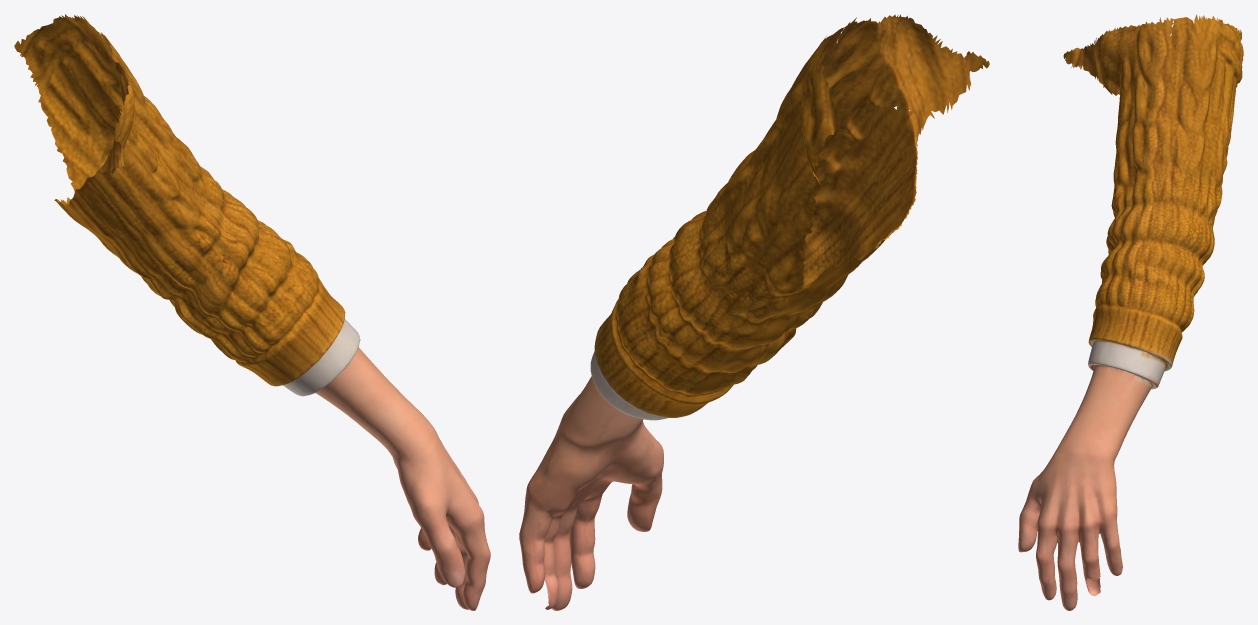
Rendered from AbuelaBrazoDer.obj.
3 renders of one model, left to right at view 1: azimuth 30°, elevation 25°; view 2: azimuth 150°, elevation 25°; view 3: azimuth 270°, elevation 25°, orthographic. The views are drawn at different scales.
Parts seen in each view (by area): view 1: AbuelaBrazoDer; view 2: AbuelaBrazoDer; view 3: AbuelaBrazoDer.
Boxes of the visible parts, x1,y1,x2,y2 form: AbuelaBrazoDer: (14,14,490,610); AbuelaBrazoDer: (519,14,989,610); AbuelaBrazoDer: (1018,14,1243,610).
Size of the model in its own units: 0.3251 by 0.5173 by 0.2202.
1 material, 1 textured.
